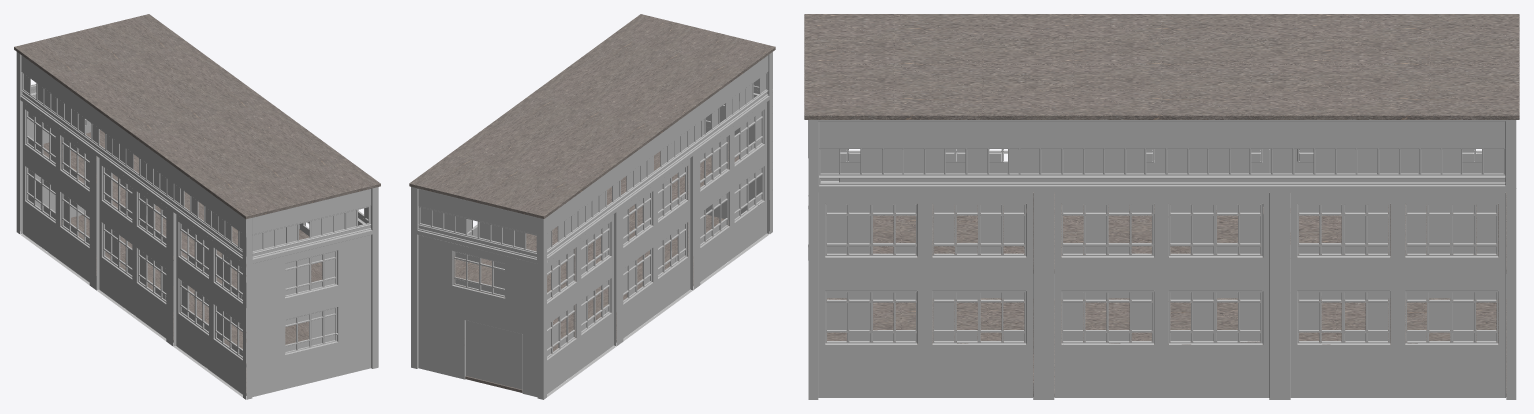
Rendered from IndustrialBuilding.fbx.
3 views of the same model, side by side, from view 1: azimuth 30°, elevation 25°; view 2: azimuth 150°, elevation 25°; view 3: azimuth 270°, elevation 25° (orthographic). The views are drawn at different scales.
Visible parts, largest first — view 1: building _building _0.002, building floor_building floor_0.001, building top_building _0.001, building windows_building windows_0.001; view 2: building _building _0.002, building floor_building floor_0.001, building top_building _0.001, building windows_building windows_0.001, building _building _0.003; view 3: building _building _0.002, building floor_building floor_0.001, building windows_building windows_0.001, building top_building _0.001, building _building _0.003.
Part boxes in pixels (x1,y1,x2,y2): building _building _0.002: (16, 89, 378, 399); building floor_building floor_0.001: (14, 14, 380, 395); building top_building _0.001: (16, 52, 378, 261); building windows_building windows_0.001: (24, 74, 368, 356); building _building _0.002: (411, 90, 772, 399); building floor_building floor_0.001: (409, 14, 775, 392); building top_building _0.001: (411, 52, 772, 261); building windows_building windows_0.001: (420, 74, 765, 356); building _building _0.003: (417, 242, 522, 379); building _building _0.002: (808, 120, 1516, 399); building floor_building floor_0.001: (804, 14, 1519, 396); building windows_building windows_0.001: (820, 149, 1503, 340); building top_building _0.001: (808, 120, 1516, 186); building _building _0.003: (818, 192, 1505, 397).
Size of the model in its own units: 116108 by 151741 by 345071.
